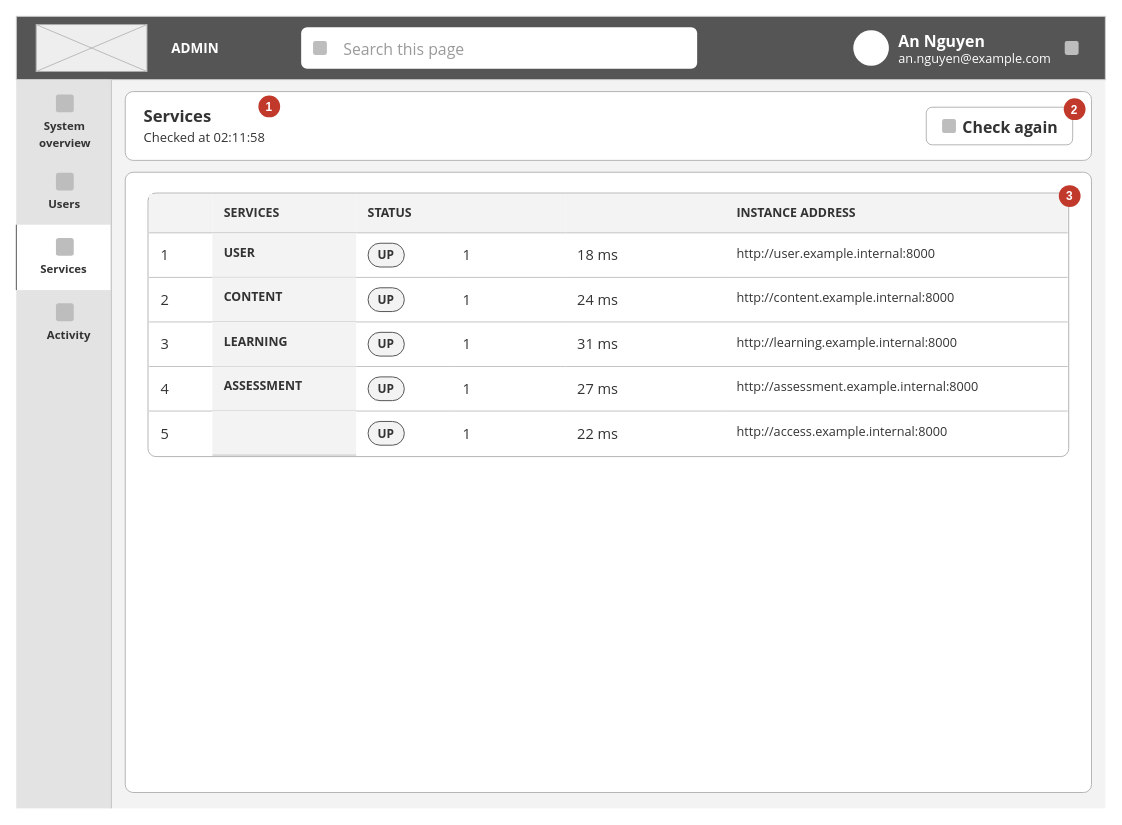
Image size: 1122x825. Some labels were removed from this diagram. Here are the shapes that lost their labels. From the top down, the centre of each, then its label:
(x=870, y=47): AN
(x=180, y=213): NO.
(x=508, y=213): INSTANCE
(x=644, y=213): FASTEST REPLY
(x=284, y=433): ACCESS
